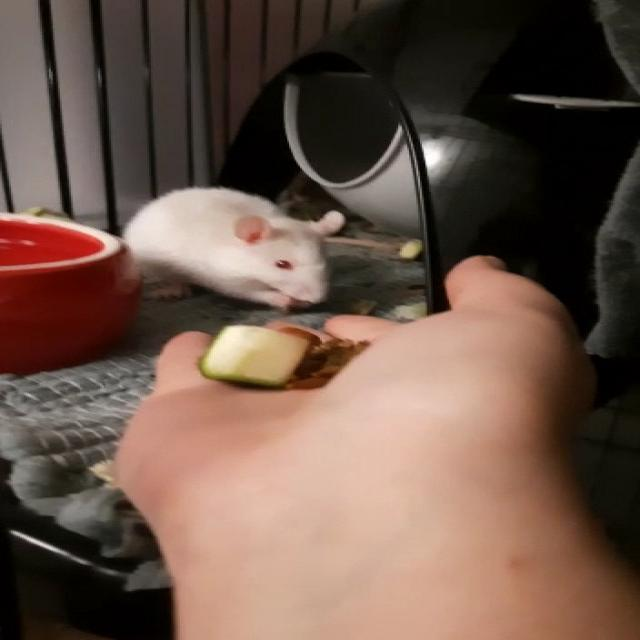rat: (123, 185, 351, 317)
